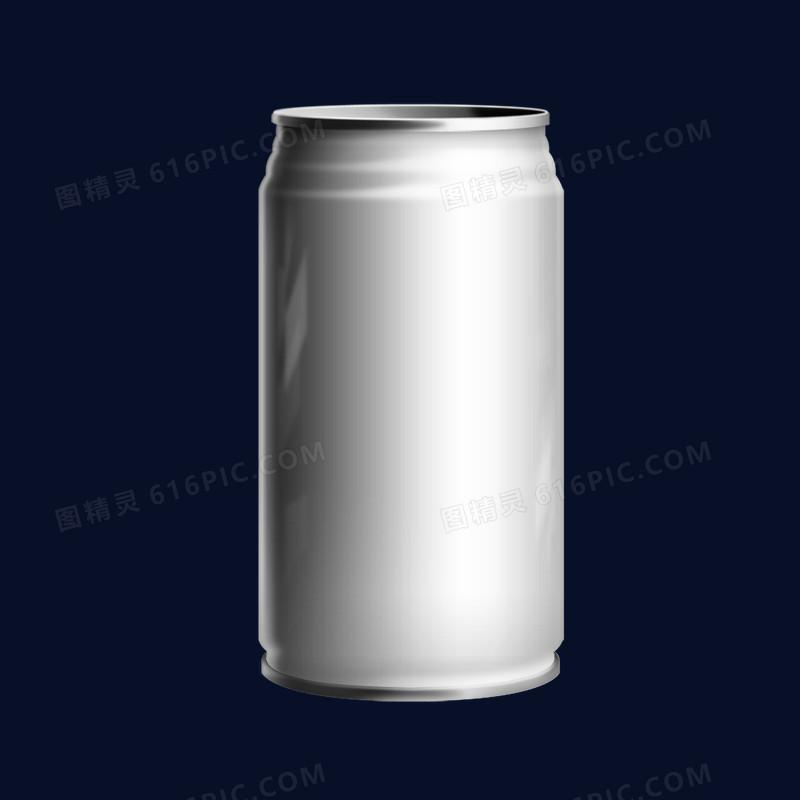metal: (532, 2, 799, 799), (0, 82, 270, 799), (259, 105, 563, 699)
